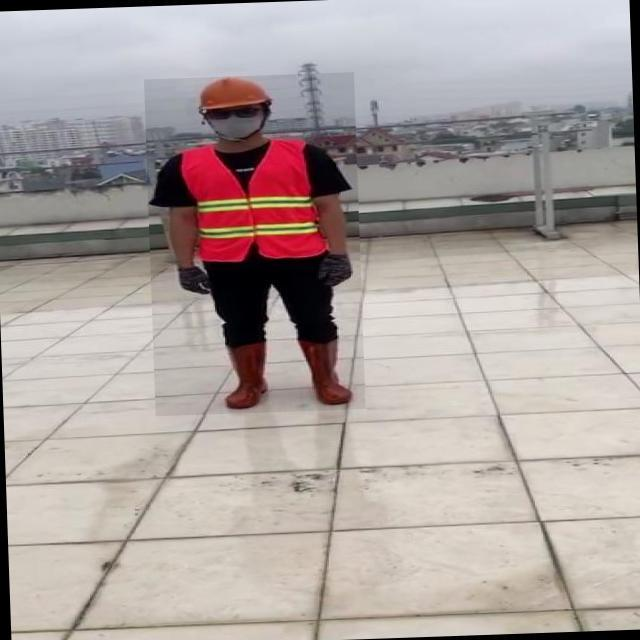Gloves: (174, 268, 214, 298), (314, 257, 353, 287)
Helmet: (193, 77, 272, 113)
Human: (144, 72, 366, 417)
Safety Boot: (296, 339, 357, 408), (218, 340, 270, 414)
Safety Vest: (177, 140, 323, 263)
